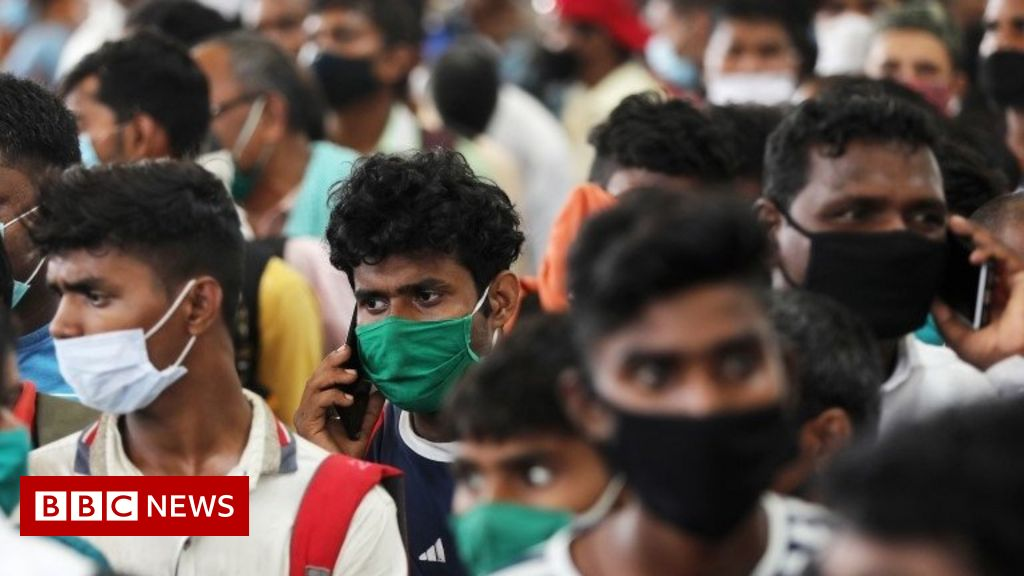with_incorrect_mask: (47, 260, 185, 408)
with_mask: (810, 151, 938, 327), (354, 270, 475, 406)
